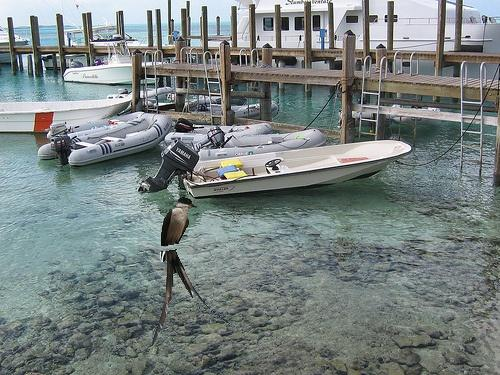tampered: (153, 98, 250, 345)
